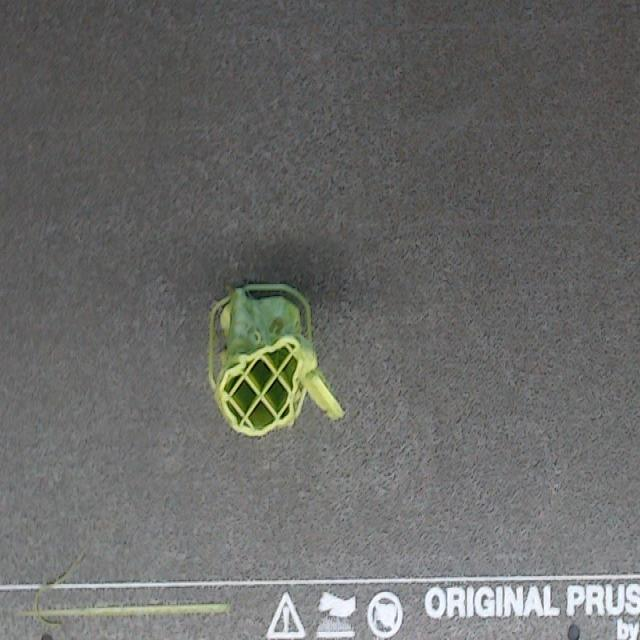mistake: (31, 551, 84, 616), (255, 330, 260, 341)
